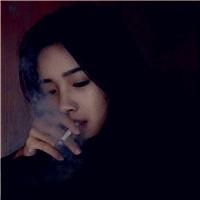smoke: (57, 120, 80, 147)
